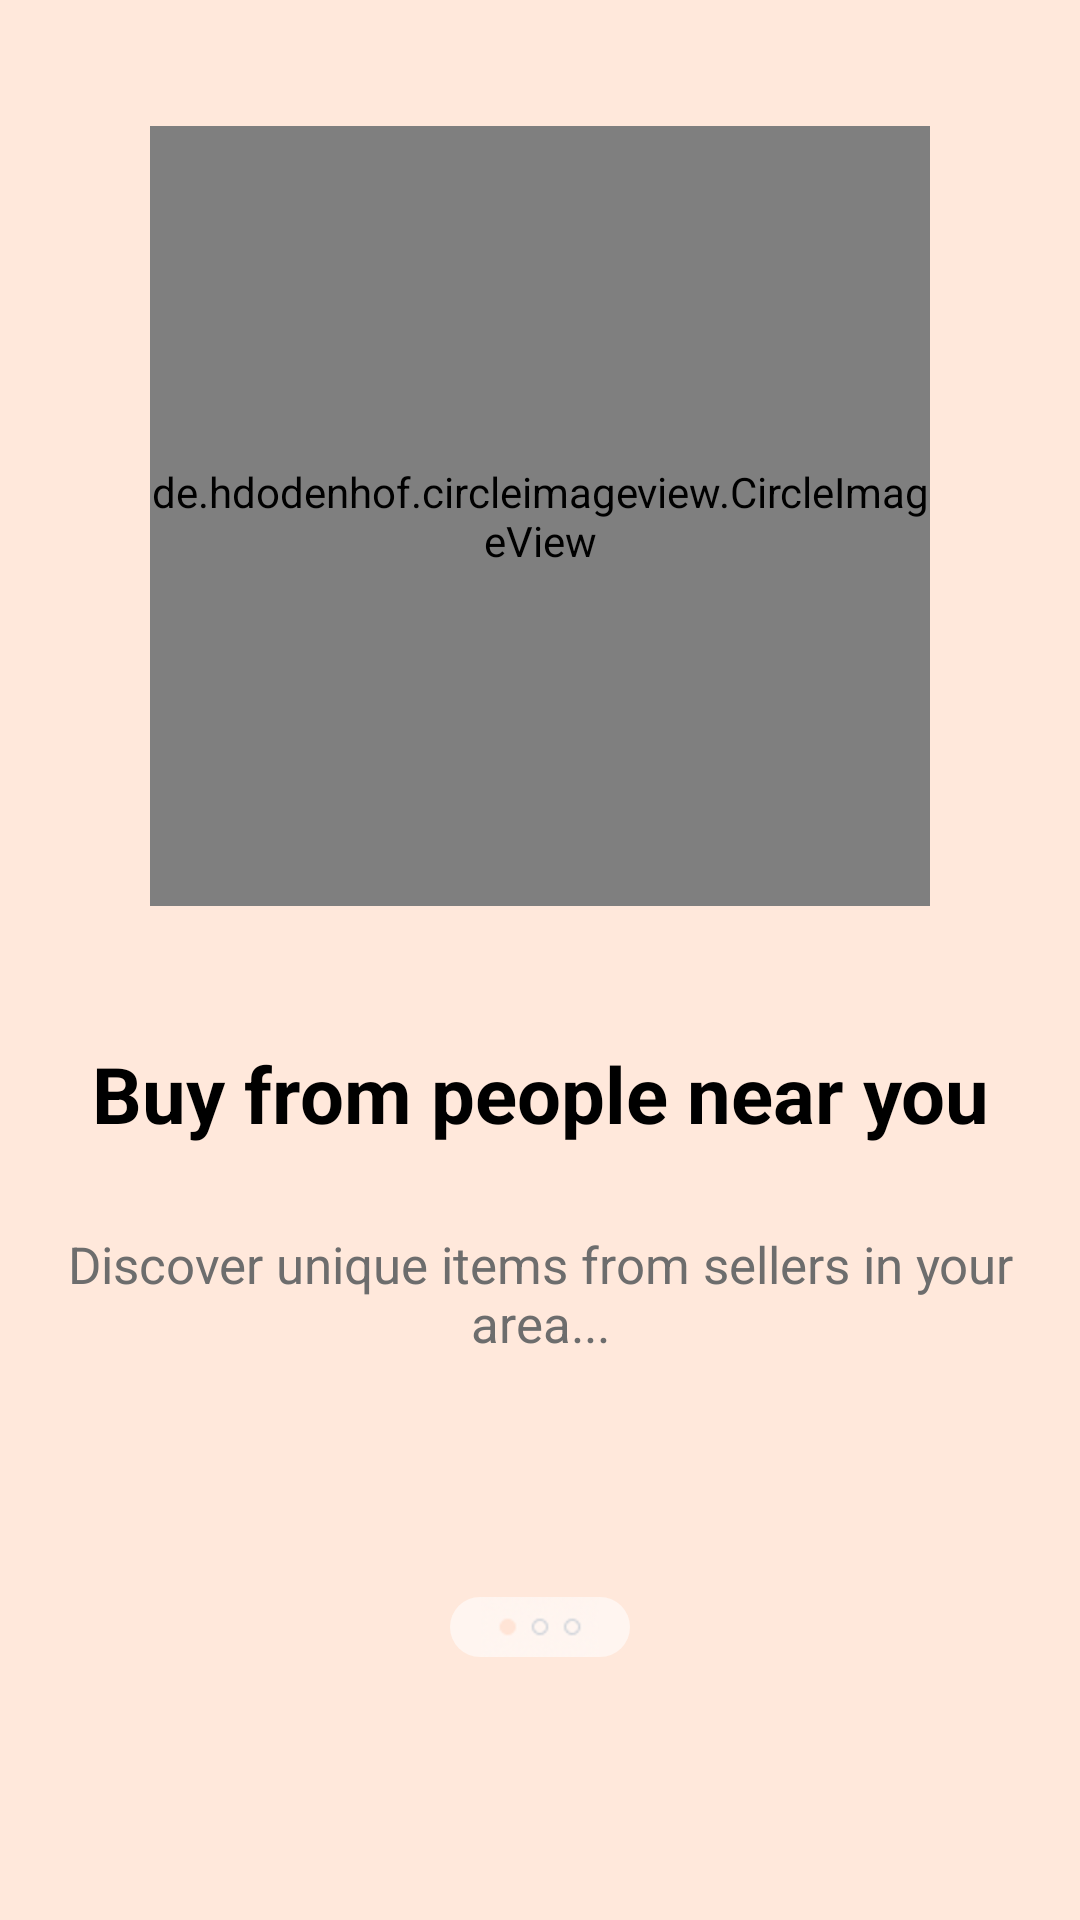

Icon click points for this 1080×1920 phone screenshot, format (x,y):
dotone: (540,1627)
